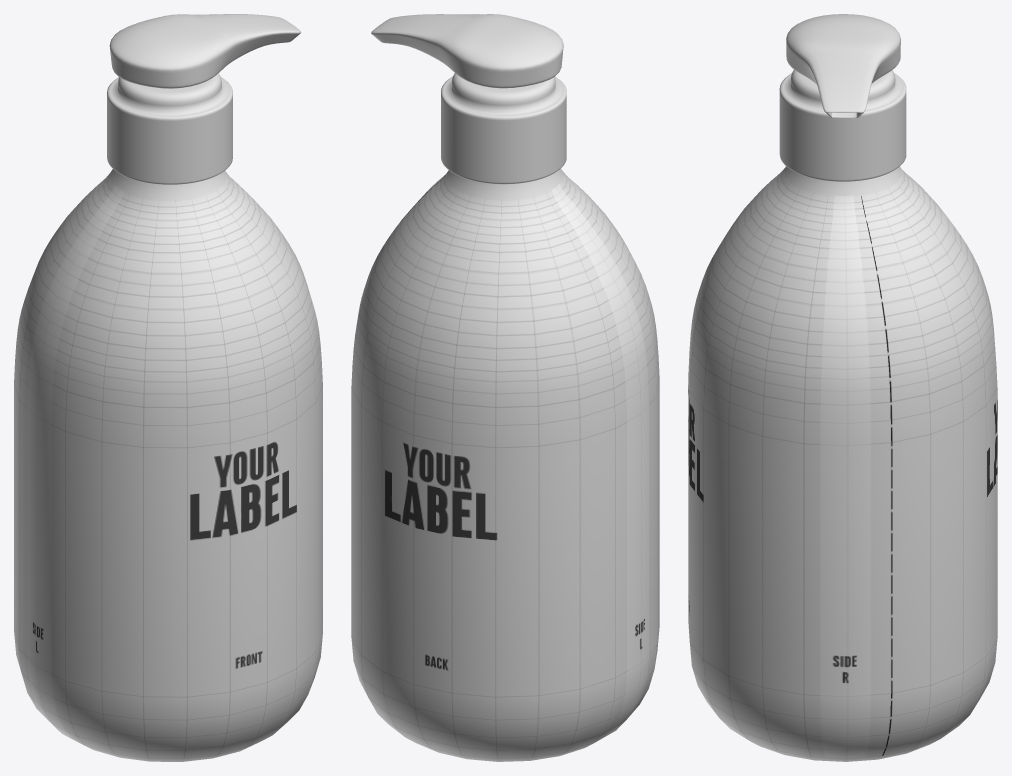
The model's file is SOAP-TURBOSQUID-ID001_v1.gltf.
The picture shows the model from 3 angles, left to right: view 1: azimuth 30°, elevation 25°; view 2: azimuth 150°, elevation 25°; view 3: azimuth 270°, elevation 25°; orthographic projection.
Visible parts, largest first — view 1: Obj.001; view 2: Obj.001; view 3: Obj.001.
Boxes of the visible parts, x1,y1,x2,y2 form: Obj.001: (14,14,322,761); Obj.001: (351,14,659,761); Obj.001: (688,14,997,761).
Bounding box in the file's own units: 0.0757 × 0.1865 × 0.0752.
Materials: 2 (1 with a texture image).
